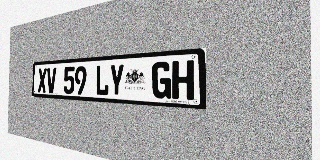5: (64, 66, 75, 94)
9: (75, 66, 87, 95)
G: (152, 61, 171, 99)
H: (172, 60, 194, 100)
L: (95, 65, 109, 96)
V: (47, 67, 56, 93)
X: (38, 68, 47, 93)
Y: (109, 64, 124, 97)
